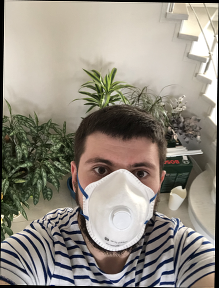with_mask: (80, 146, 159, 255)
